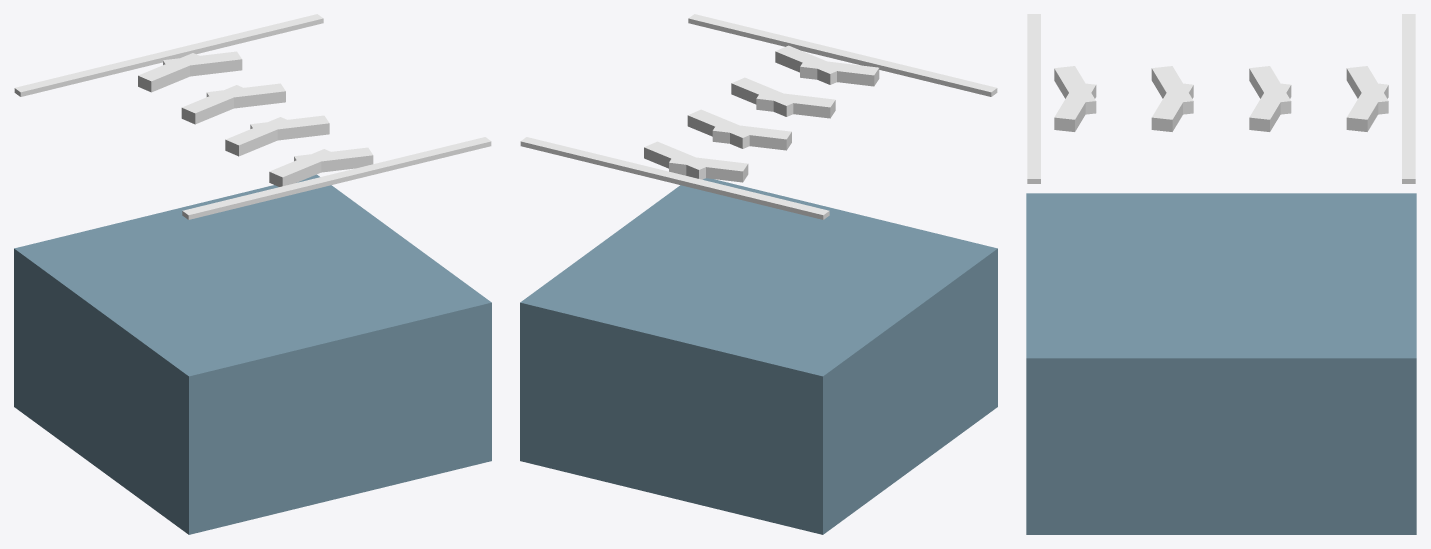
File: Conveyor_Half.glb
The picture shows the model from 3 angles, left to right: view 1: azimuth 30°, elevation 25°; view 2: azimuth 150°, elevation 25°; view 3: azimuth 270°, elevation 25°; orthographic projection. The views are drawn at different scales.
Visible parts, largest first — view 1: Conveyor_Half_body, rail_-0.001, rail_0.001, chev_1_1.001, chev_3_1.001, chev_0_1.001, chev_2_1.001, chev_1_-1.001, chev_2_-1.001, chev_0_-1.001, chev_3_-1.001; view 2: Conveyor_Half_body, rail_0.001, rail_-0.001, chev_2_1.001, chev_0_1.001, chev_3_1.001, chev_1_-1.001, chev_1_1.001, chev_0_-1.001, chev_2_-1.001, chev_3_-1.001; view 3: Conveyor_Half_body, rail_0.001, rail_-0.001, chev_3_-1.001, chev_2_-1.001, chev_1_-1.001, chev_0_-1.001, chev_0_1.001, chev_1_1.001, chev_2_1.001, chev_3_1.001.
Part boxes in pixels (<box>): Conveyor_Half_body: <box>14,174,491,534</box>; rail_-0.001: <box>182,137,491,219</box>; rail_0.001: <box>14,14,323,96</box>; chev_1_1.001: <box>225,117,293,156</box>; chev_3_1.001: <box>138,53,205,92</box>; chev_0_1.001: <box>269,149,336,186</box>; chev_2_1.001: <box>181,85,243,124</box>; chev_1_-1.001: <box>250,115,329,140</box>; chev_2_-1.001: <box>206,83,285,108</box>; chev_0_-1.001: <box>294,147,373,172</box>; chev_3_-1.001: <box>163,51,242,76</box>; Conveyor_Half_body: <box>520,178,997,534</box>; rail_0.001: <box>520,137,829,219</box>; rail_-0.001: <box>688,14,997,96</box>; chev_2_1.001: <box>712,123,791,150</box>; chev_0_1.001: <box>800,59,879,86</box>; chev_3_1.001: <box>669,155,748,182</box>; chev_1_-1.001: <box>731,77,799,116</box>; chev_1_1.001: <box>756,93,835,118</box>; chev_0_-1.001: <box>775,45,836,84</box>; chev_2_-1.001: <box>687,109,749,148</box>; chev_3_-1.001: <box>644,141,705,179</box>; Conveyor_Half_body: <box>1026,193,1416,534</box>; rail_0.001: <box>1402,14,1415,183</box>; rail_-0.001: <box>1027,14,1040,183</box>; chev_3_-1.001: <box>1346,83,1388,131</box>; chev_2_-1.001: <box>1249,82,1291,131</box>; chev_1_-1.001: <box>1151,82,1193,131</box>; chev_0_-1.001: <box>1054,82,1096,131</box>; chev_0_1.001: <box>1054,66,1096,114</box>; chev_1_1.001: <box>1151,66,1193,114</box>; chev_2_1.001: <box>1249,66,1291,114</box>; chev_3_1.001: <box>1346,66,1388,114</box>.
Bounding box in the file's own units: 1 × 1.02 × 1.
